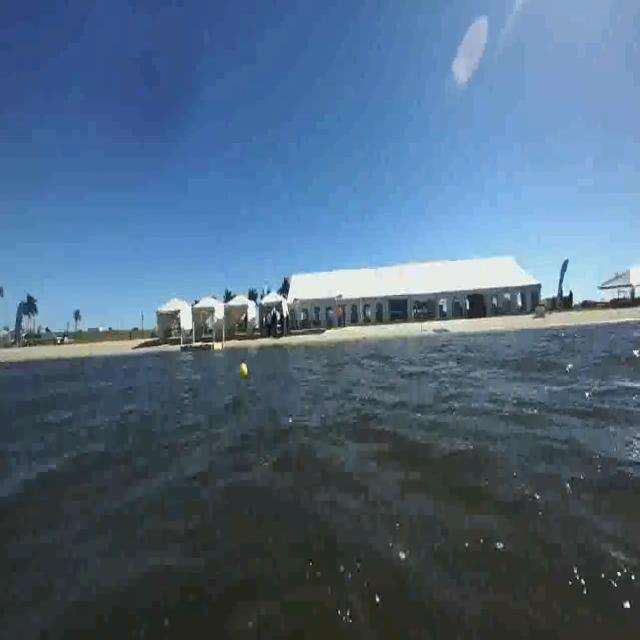yellow-buoy: (240, 360, 250, 378)
